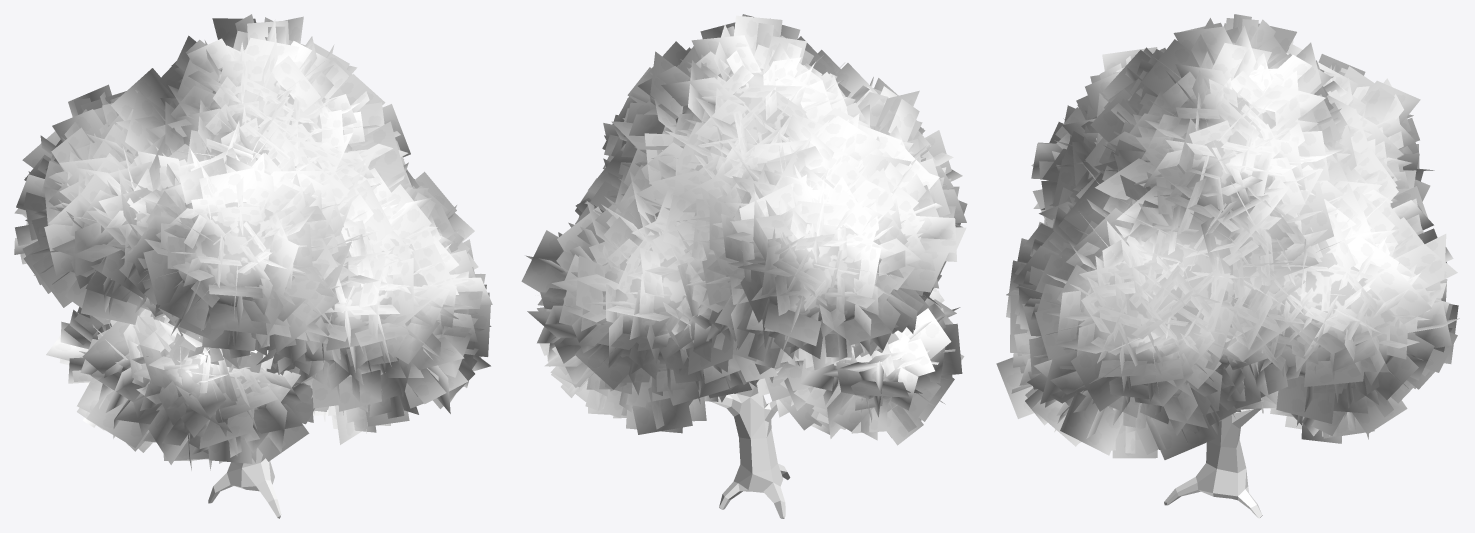
The model's file is SM_Env_Tree_03.fbx.
3 renders of one model, left to right at view 1: azimuth 30°, elevation 25°; view 2: azimuth 150°, elevation 25°; view 3: azimuth 270°, elevation 25°, orthographic. The views are drawn at different scales.
Parts seen in each view (by area): view 1: SM_Env_Tree_03_LOD0; view 2: SM_Env_Tree_03_LOD0; view 3: SM_Env_Tree_03_LOD0.
Boxes of the visible parts, x1,y1,x2,y2 form: SM_Env_Tree_03_LOD0: [14, 14, 492, 518]; SM_Env_Tree_03_LOD0: [521, 14, 967, 518]; SM_Env_Tree_03_LOD0: [996, 14, 1459, 518].
Size of what is drawn, in the model's own units: 849 by 1011 by 859.
